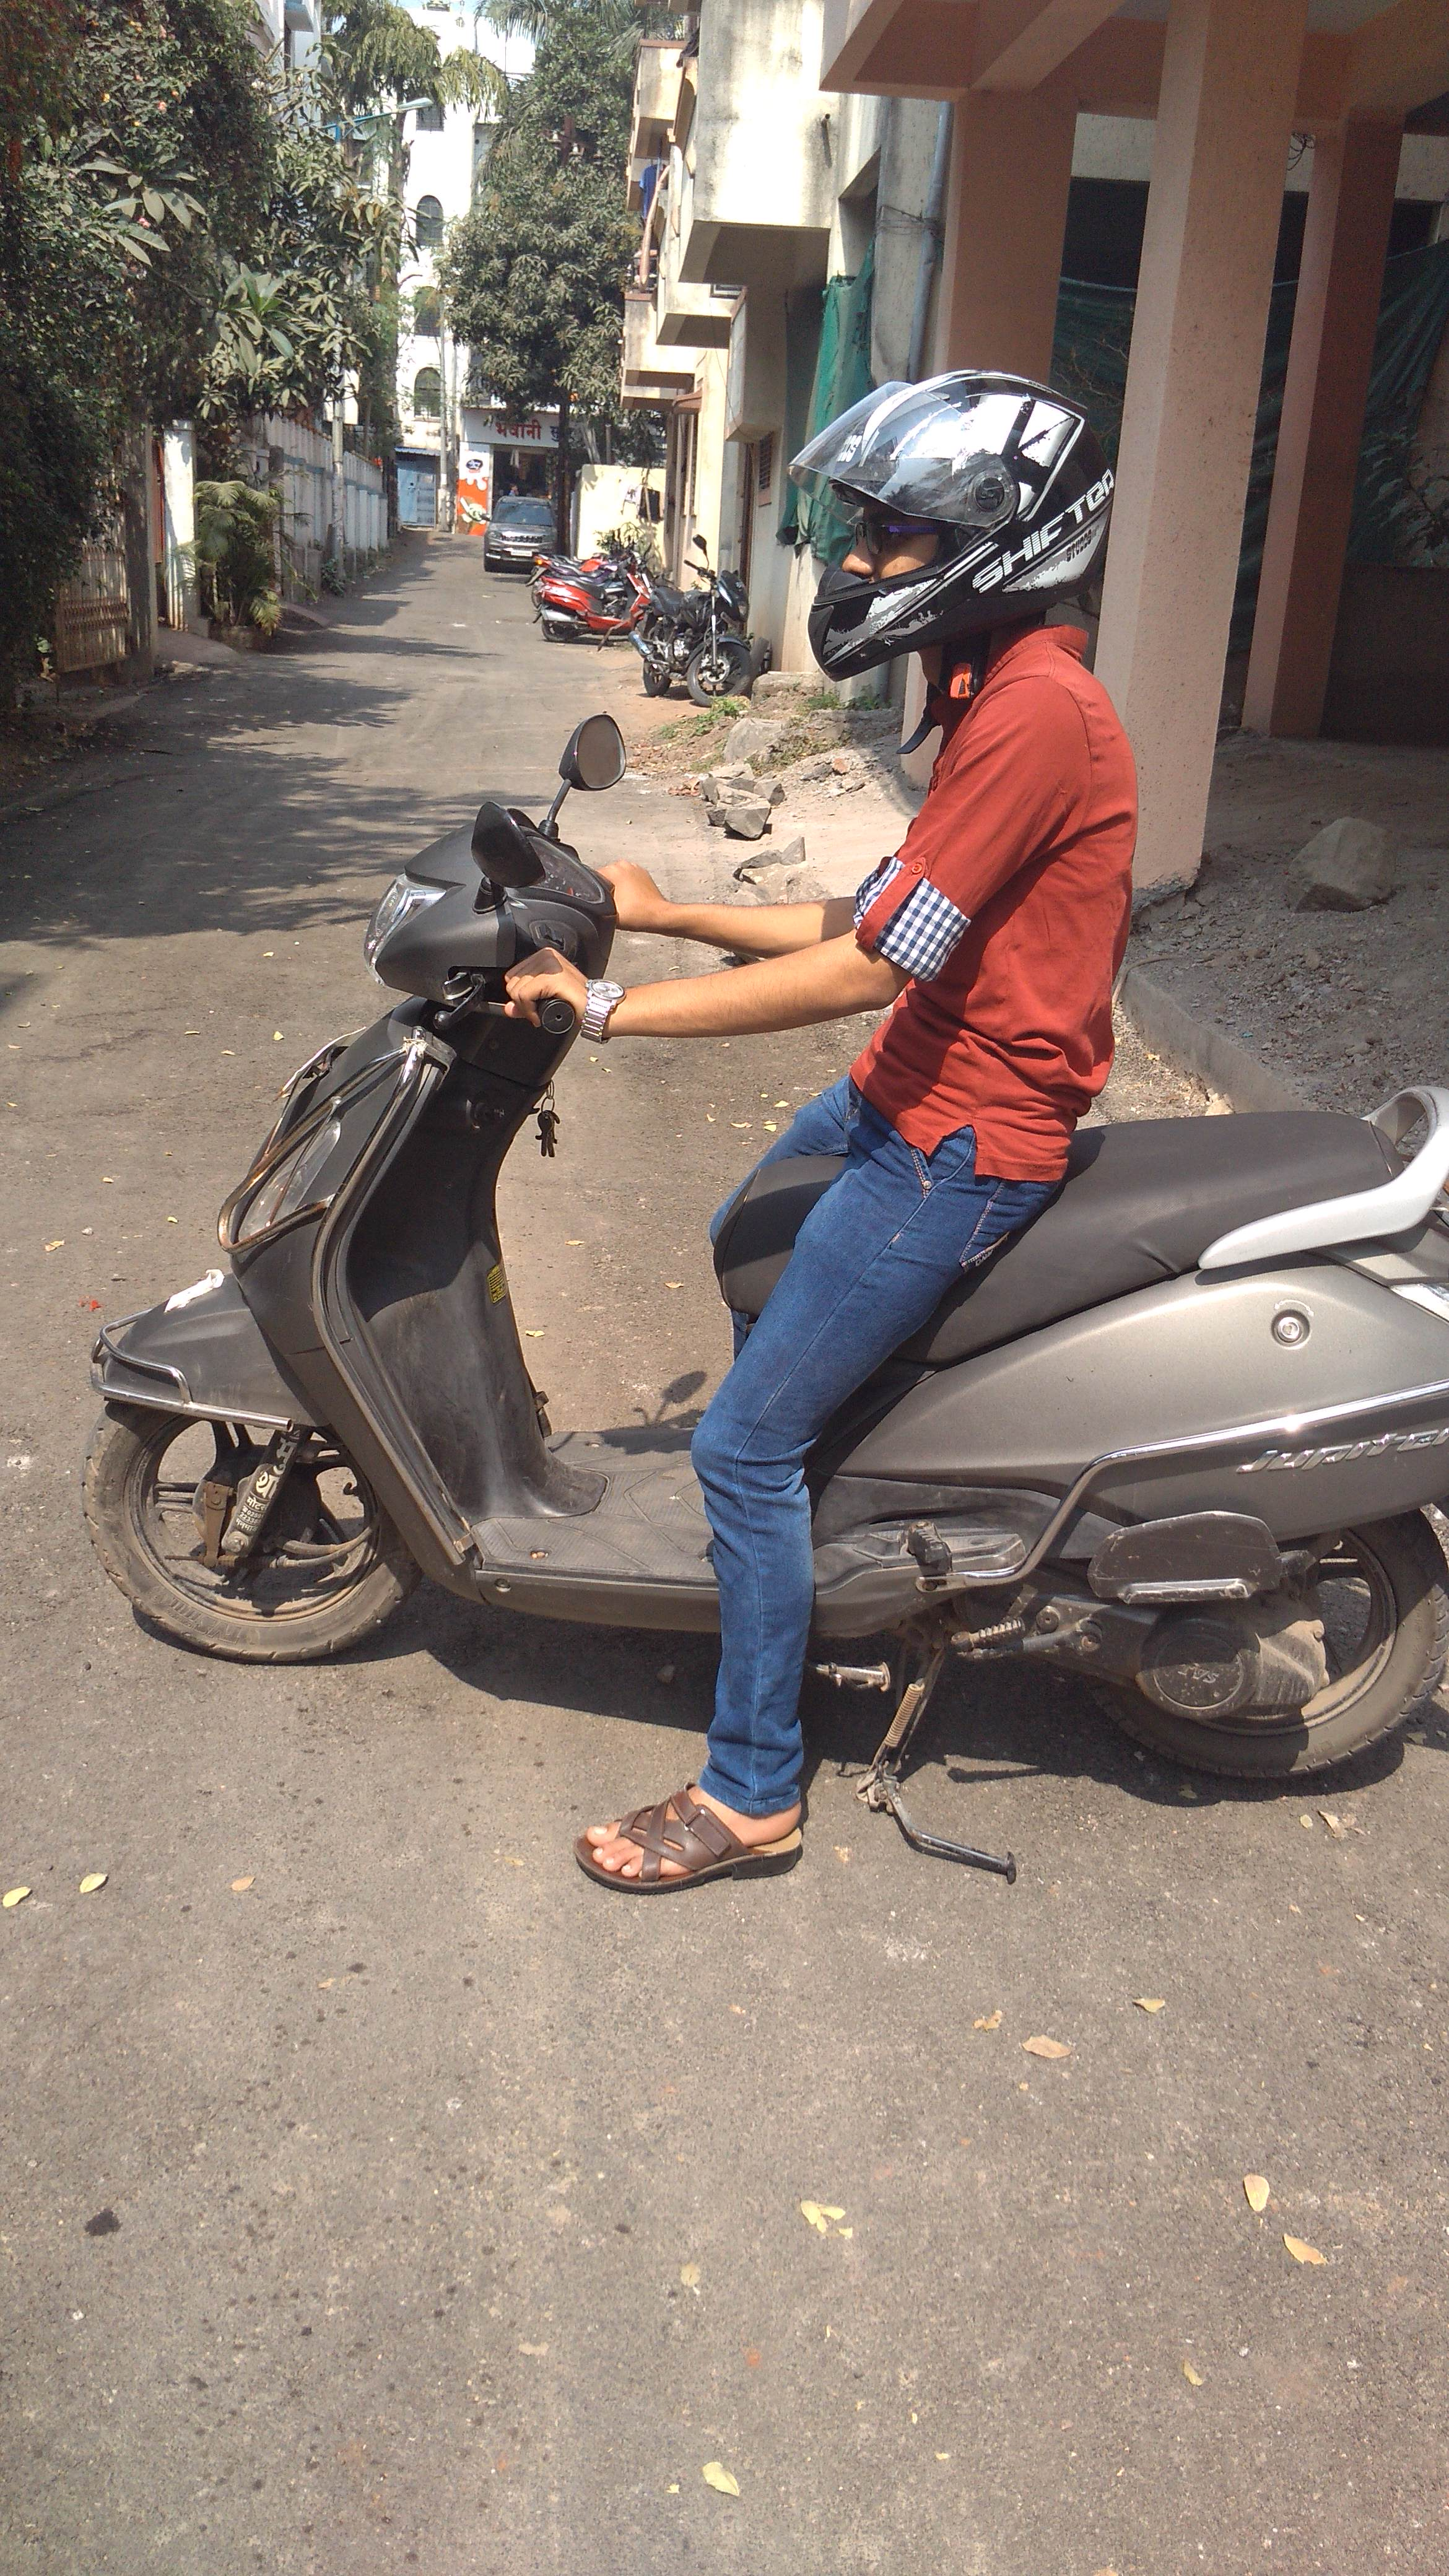helmet: (662, 326, 1240, 1371)
